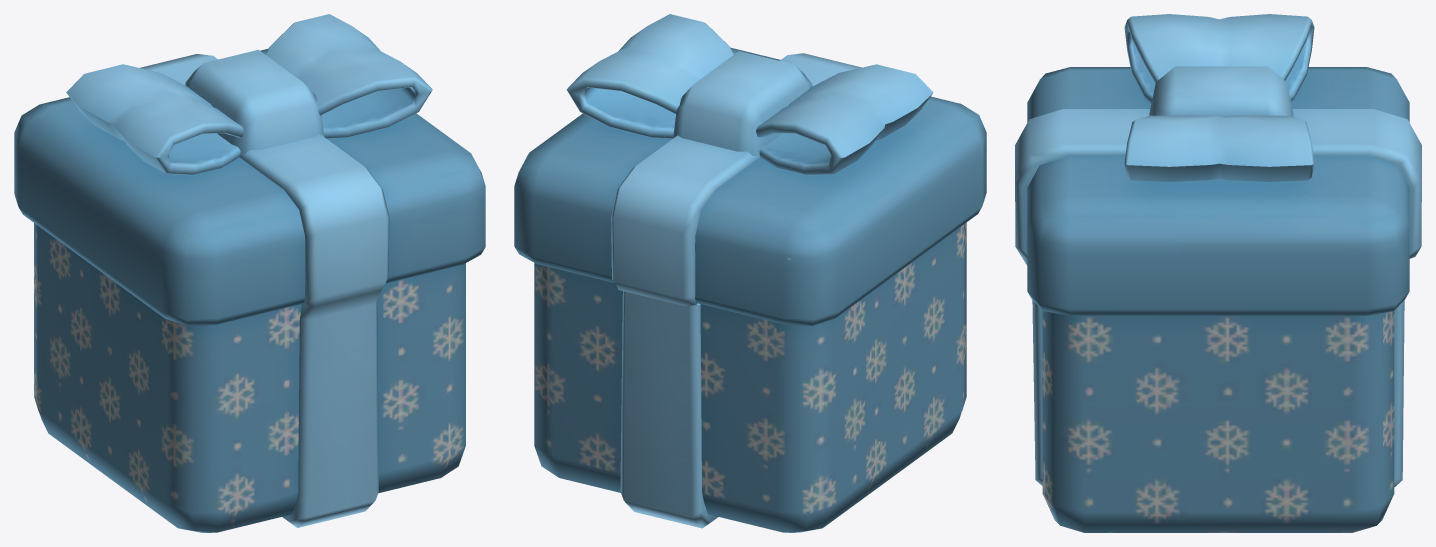
Rendered from 0-giftbox_blue.fbx.
3 views of the same model, side by side, from view 1: azimuth 30°, elevation 25°; view 2: azimuth 150°, elevation 25°; view 3: azimuth 270°, elevation 25° (orthographic). The views are drawn at different scales.
Parts seen in each view (by area): view 1: 0-giftbox_blue; view 2: 0-giftbox_blue; view 3: 0-giftbox_blue.
Boxes of the visible parts, left/top/right/bottom form: 0-giftbox_blue: left=14, top=14, right=485, bottom=532; 0-giftbox_blue: left=514, top=14, right=986, bottom=532; 0-giftbox_blue: left=1015, top=14, right=1421, bottom=532.
Bounding box in the file's own units: 109 × 127 × 116.
